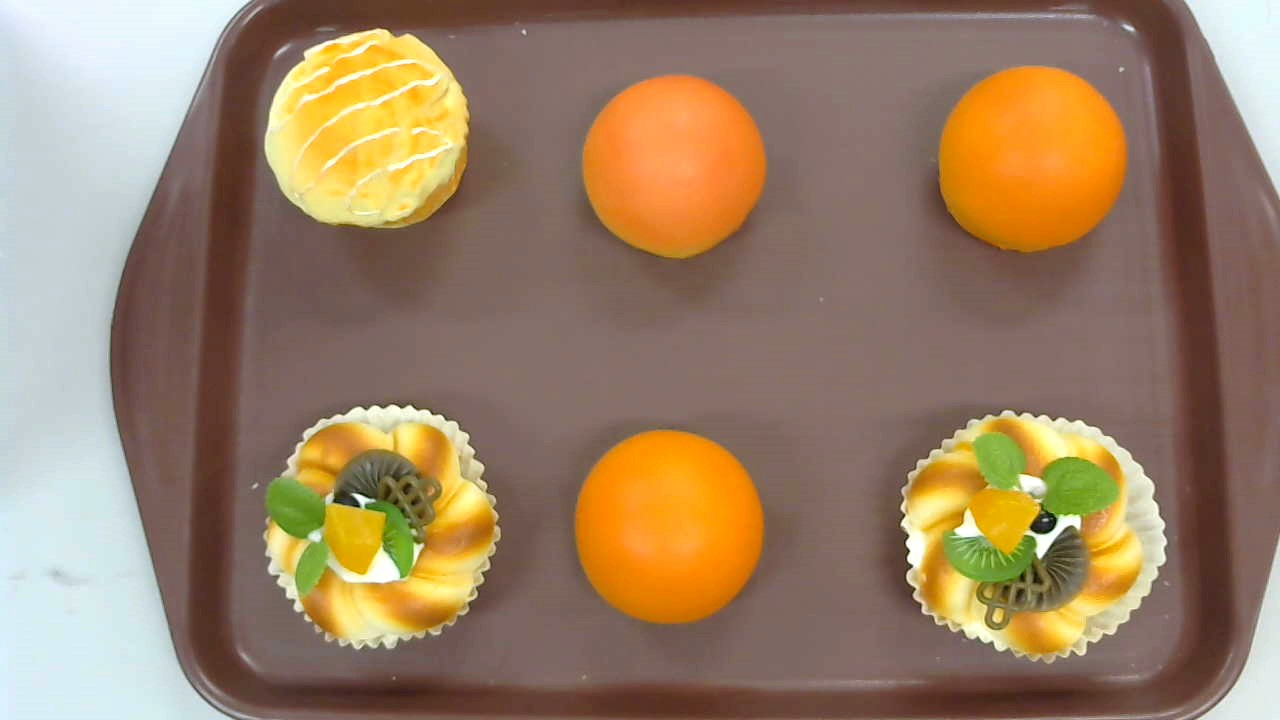bun: (575, 429, 762, 623), (939, 64, 1125, 253), (581, 74, 766, 259)
cupcake: (264, 28, 469, 230)
fruit tart: (899, 409, 1169, 663), (263, 404, 502, 652)
